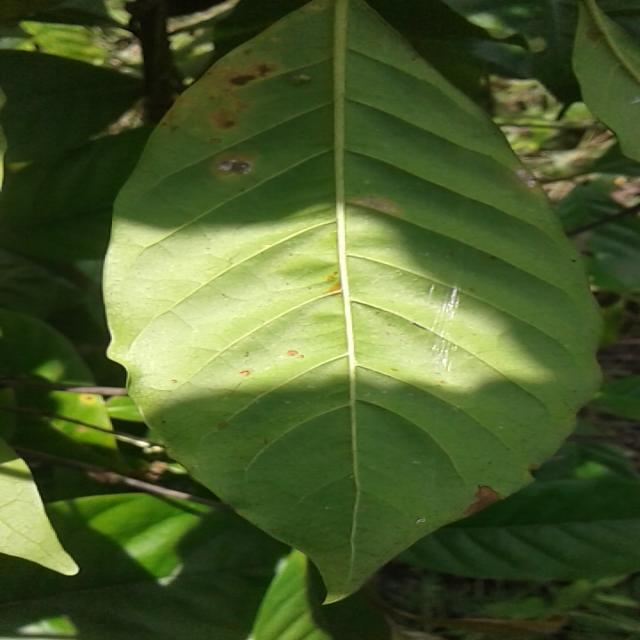Enfermedad-Roya: (102, 0, 603, 607)
